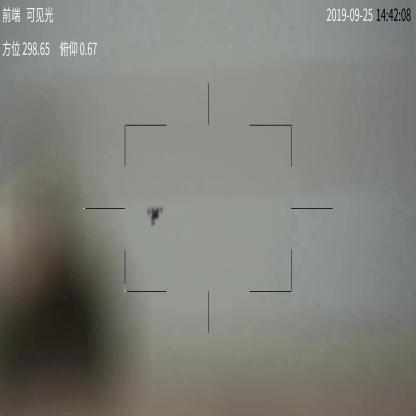uav: (144, 206, 168, 225)
